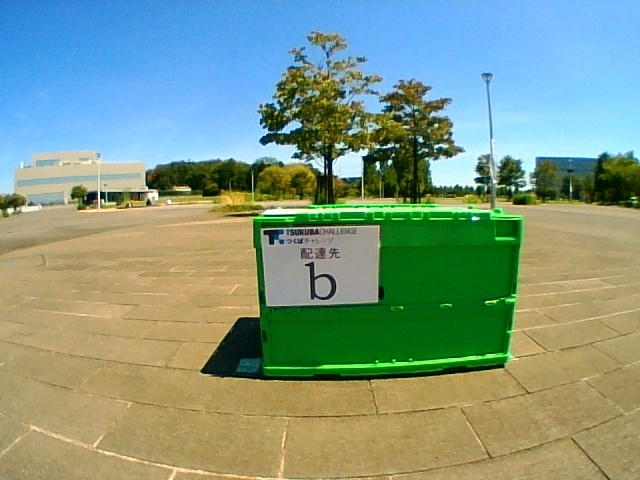green_box: (253, 204, 523, 377)
tag_b: (266, 228, 377, 302)
